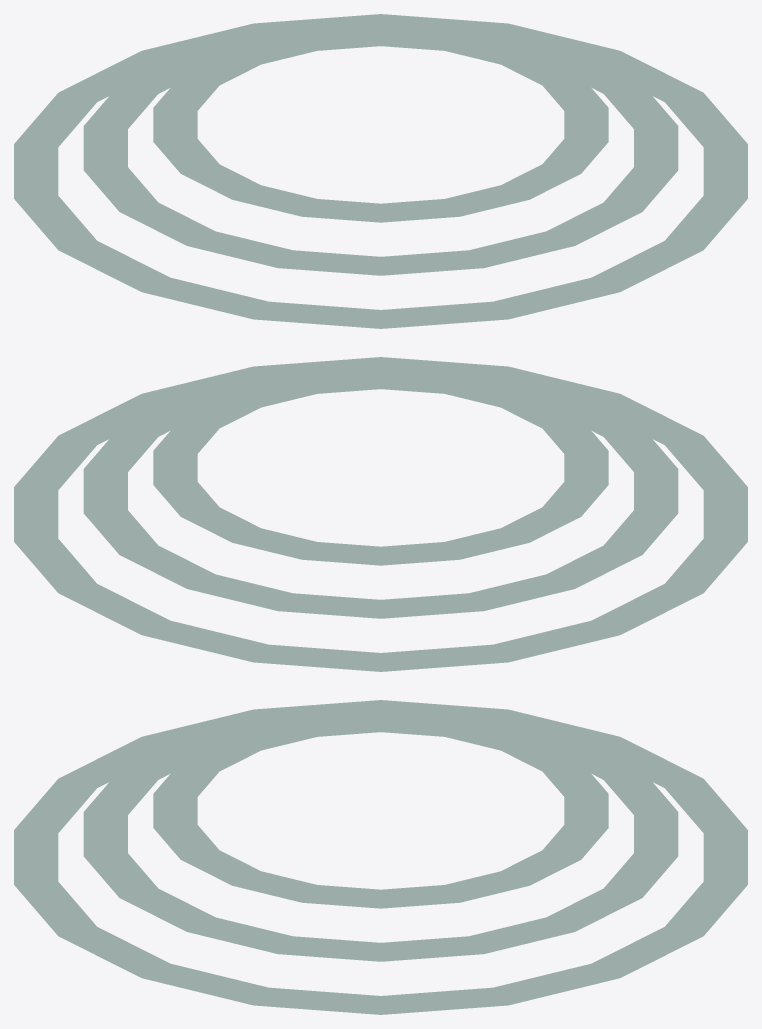
Rendered from hose_coil.fbx.
3 renders of one model, top to bottom at view 1: azimuth 30°, elevation 25°; view 2: azimuth 150°, elevation 25°; view 3: azimuth 270°, elevation 25°, orthographic.
Visible parts, largest first — view 1: hose_coil_geometry; view 2: hose_coil_geometry; view 3: hose_coil_geometry.
Part boxes in pixels (x1,y1,x2,y2): hose_coil_geometry: (14,14,747,328); hose_coil_geometry: (14,357,747,671); hose_coil_geometry: (14,700,747,1014).
Bounding box in the file's own units: 0.58 × 0.04 × 0.5712.
